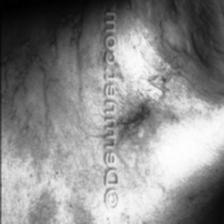Toxin: (0, 8, 173, 199), (191, 28, 209, 64)
